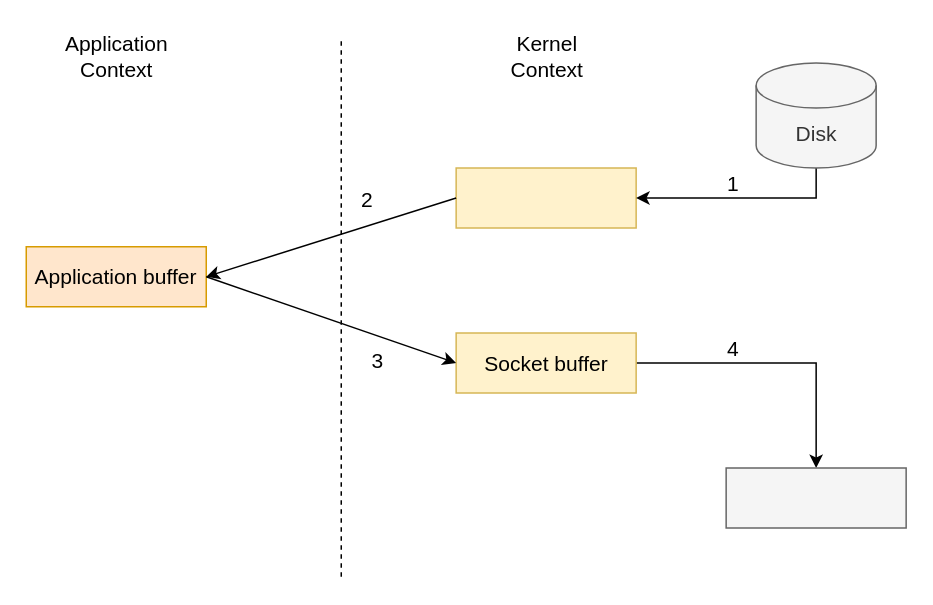
This 933x605 diagram has some shape labels left out. Here are the shapes that lost their labels. From the top down, the centre of each, then its label:
At pixel 545 197: "Read buffer".
At pixel 815 497: "NIC buffer".
